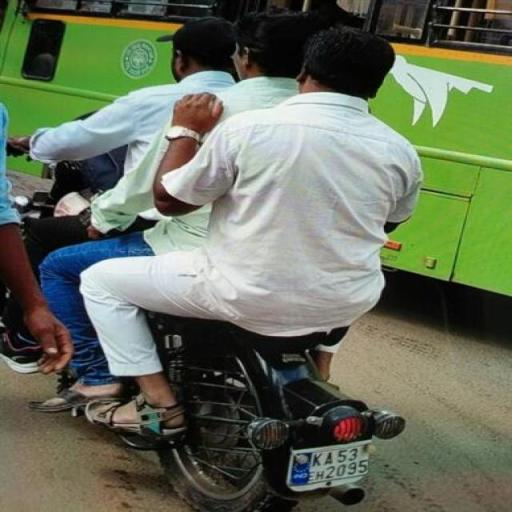tripple riding: (6, 8, 426, 323)
